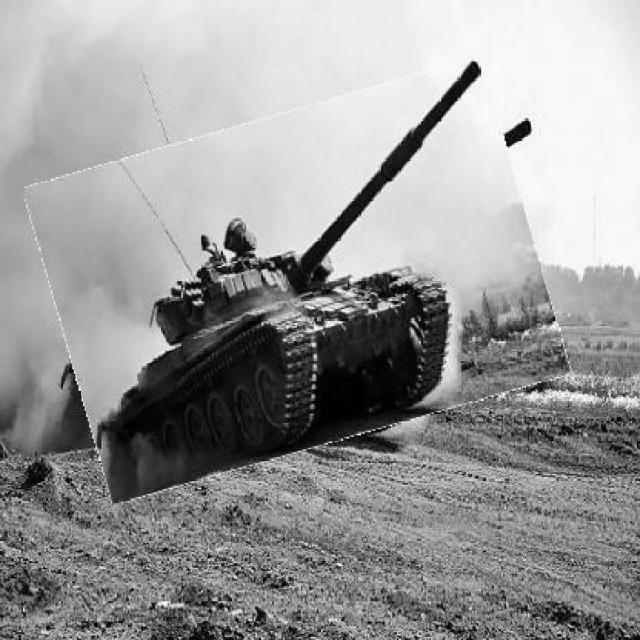Tank: (43, 89, 554, 478)
